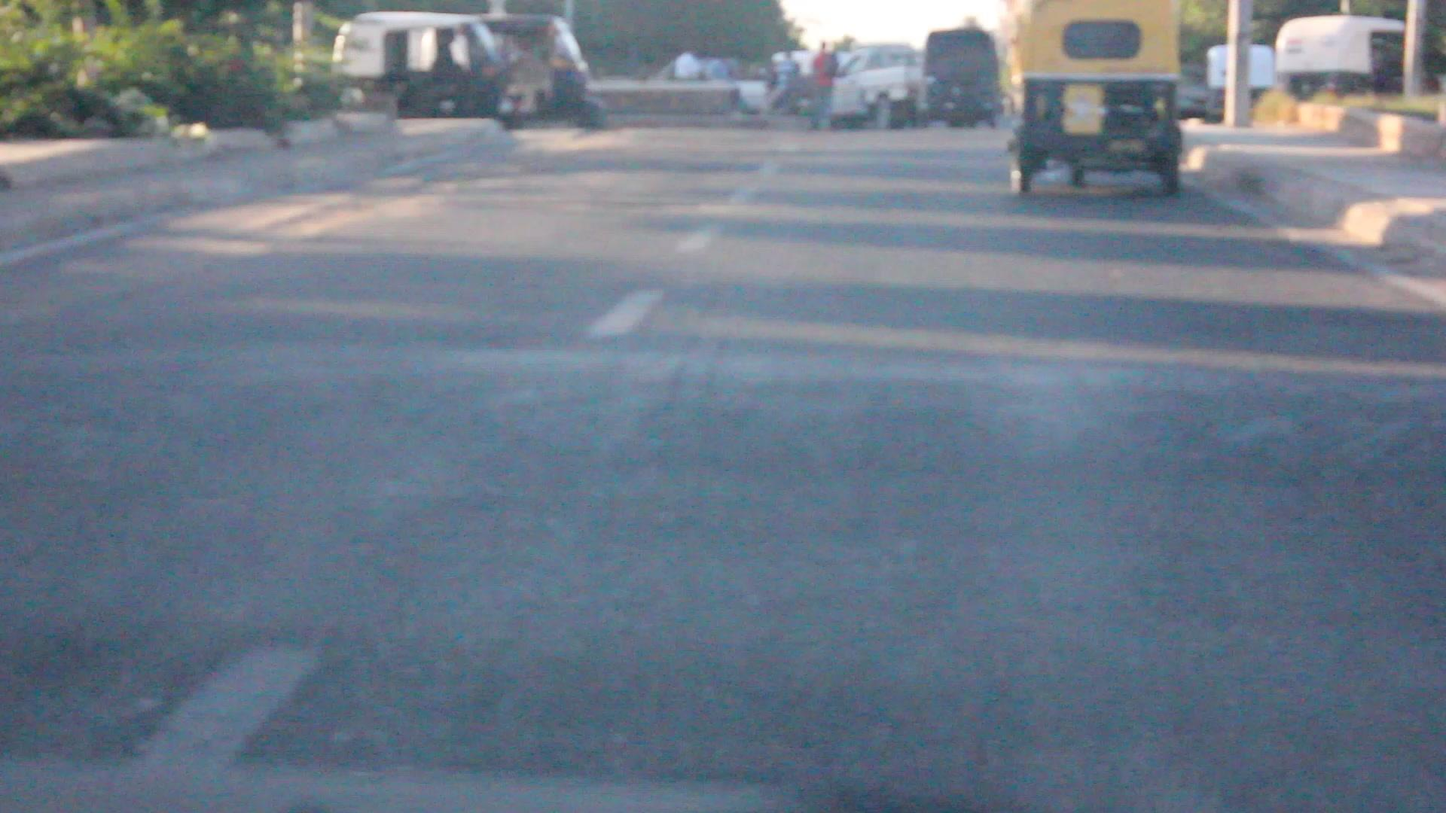Bump: (9, 384, 1422, 728)
